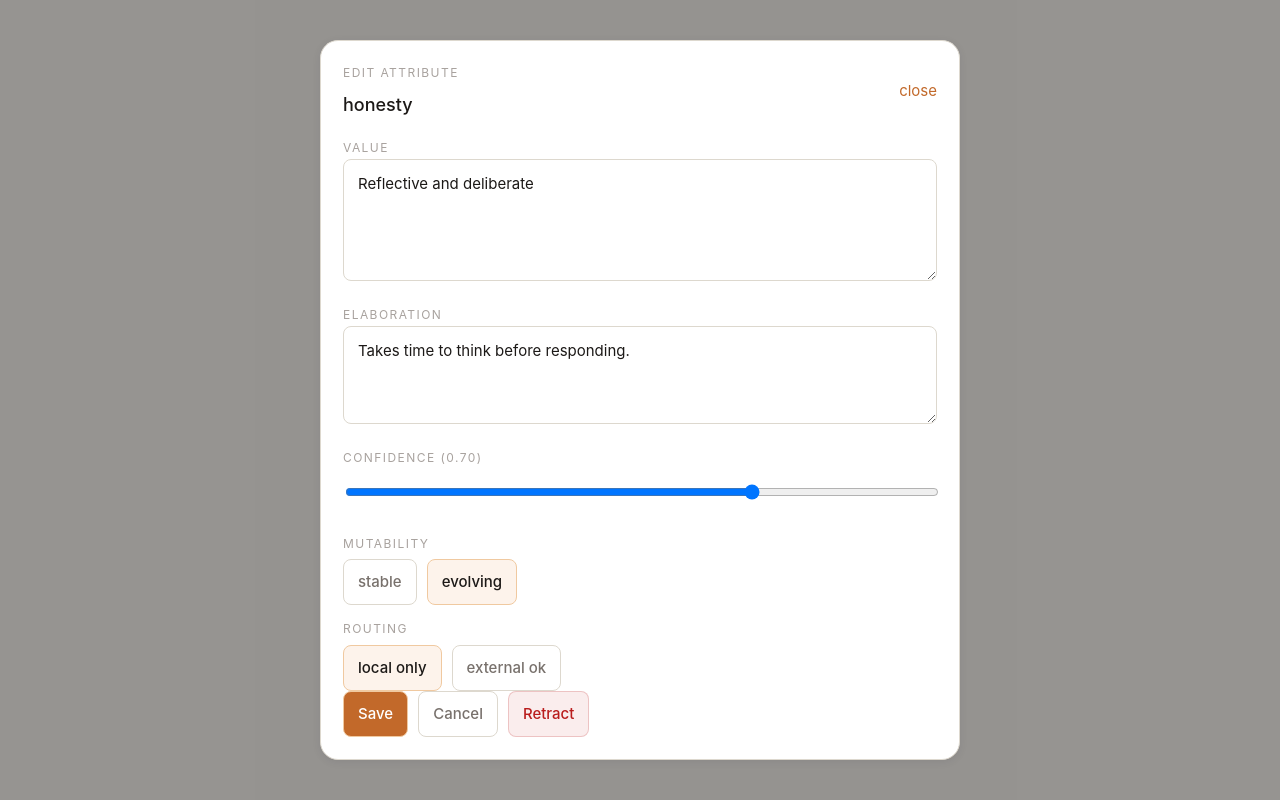
Scenario: AttributeEditor › surfaces save errors while editing existing attributes
Step 1. Click the button "Save" → point(376, 714), box [343,691,408,737]
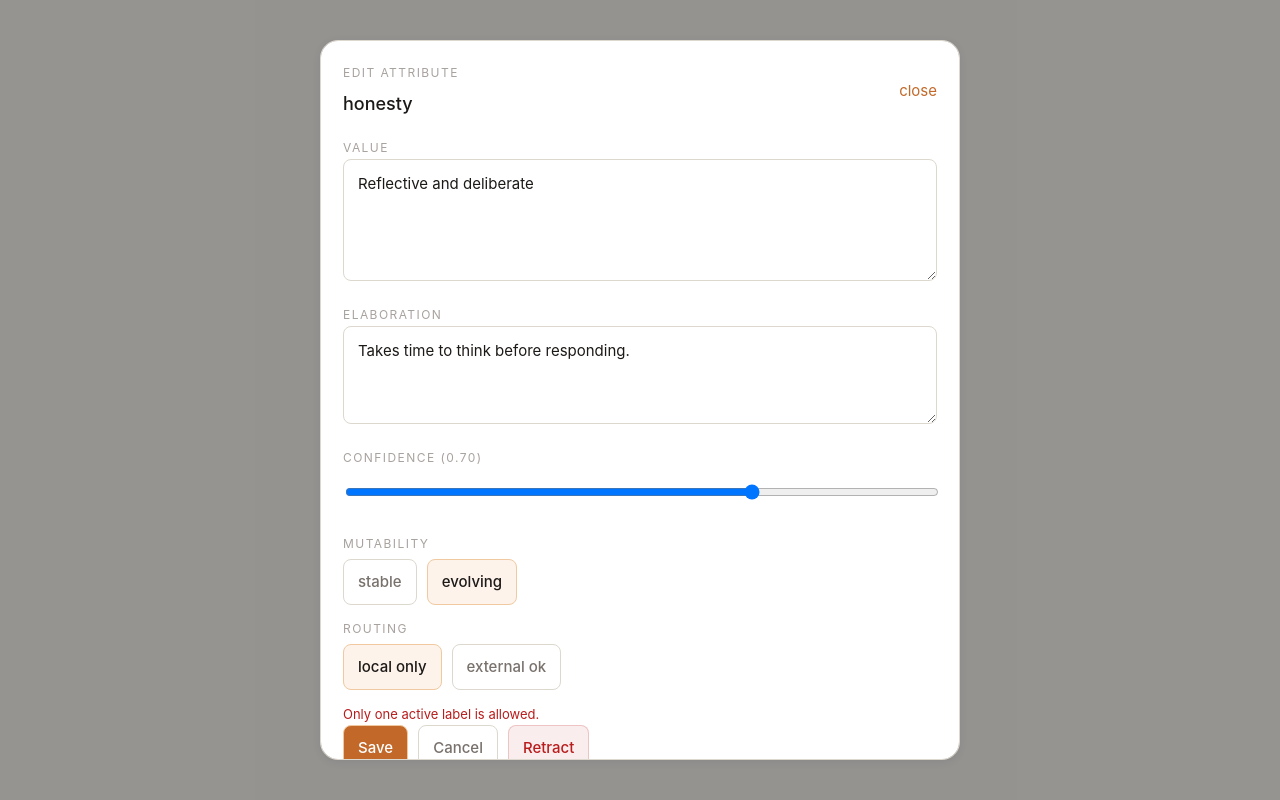
Expected: the message reads "Only one active label is allowed.", [343,706,539,722]
